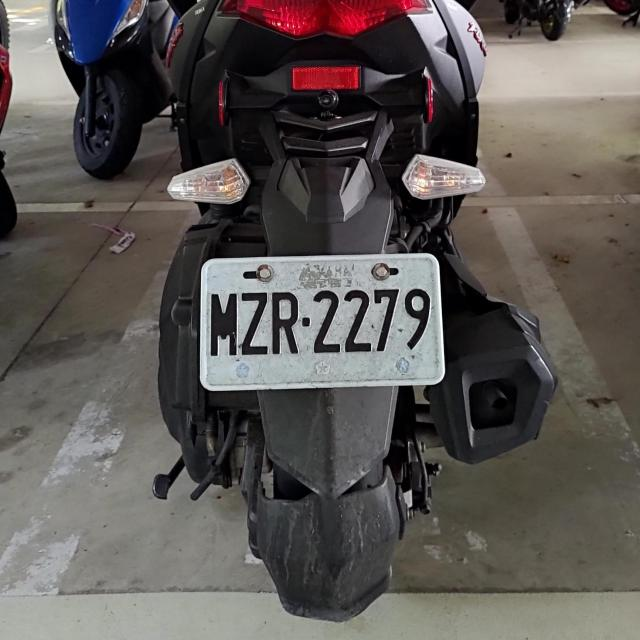W: (196, 248, 446, 391)
